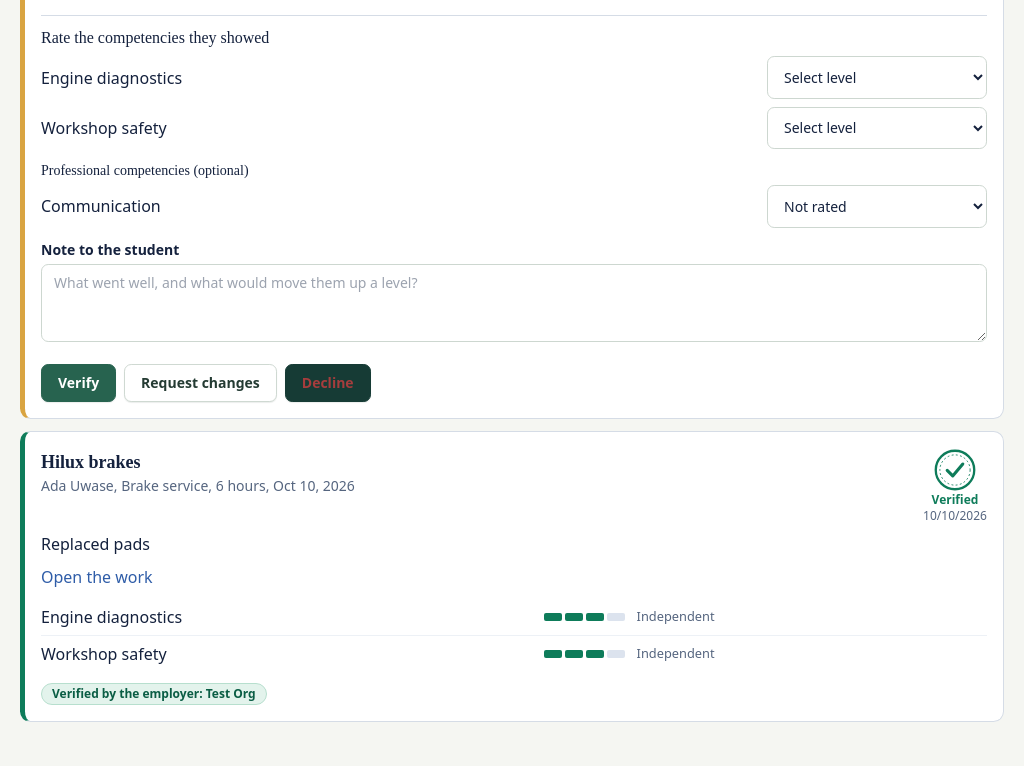
Scenario: key actions send the right requests › employer must explain a request for changes
The image size is (1024, 766).
(page scrolled)
Click the button "Request changes" at (200, 382), box [124,364,277,402]
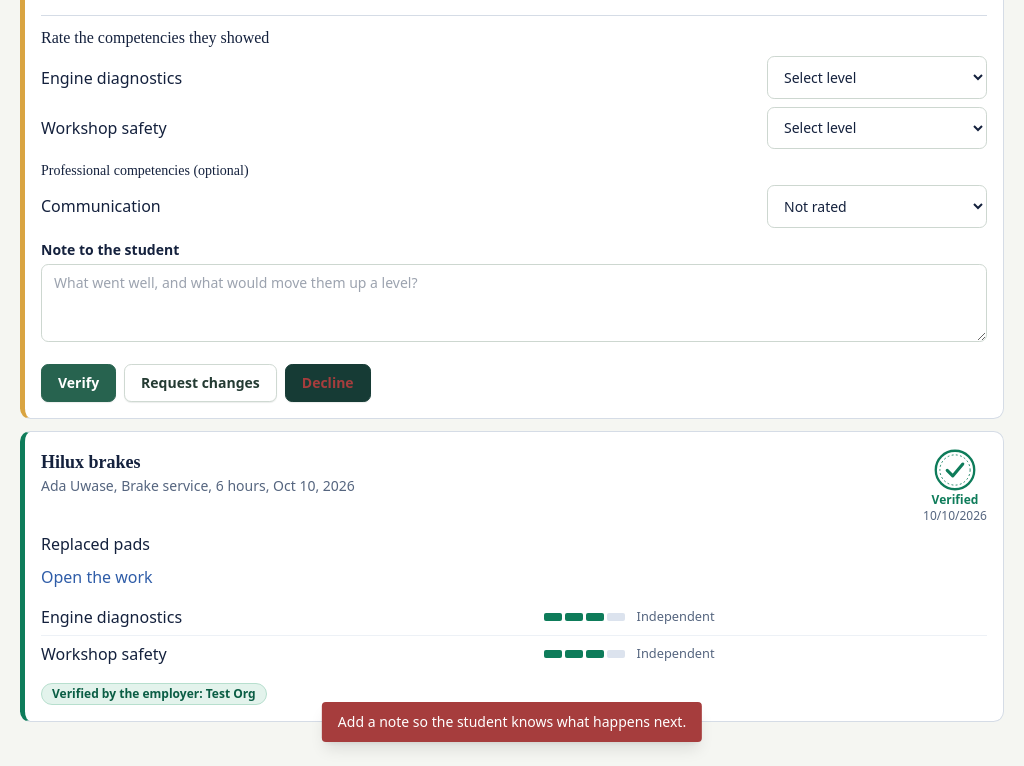
Expected: the text "Add a note so the student knows what happens next." is shown, [322,702,702,742]
